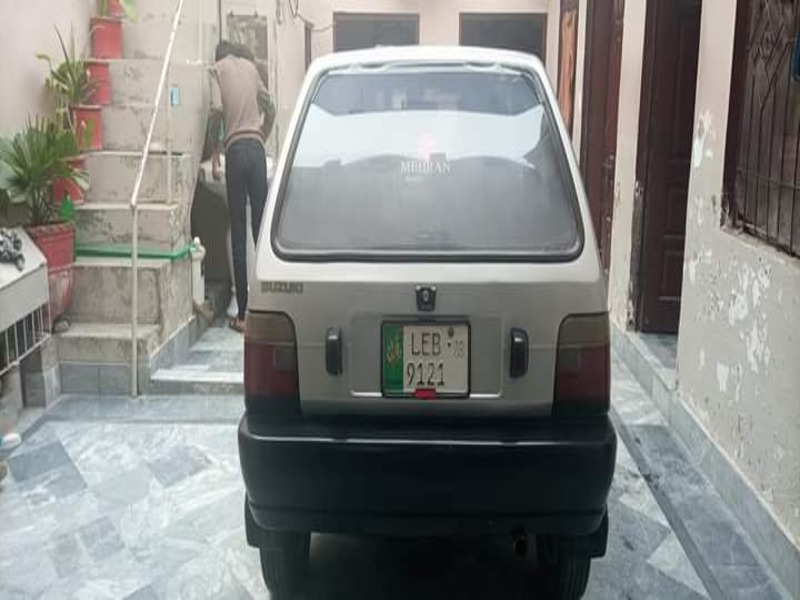License Plate: (376, 316, 475, 401)
